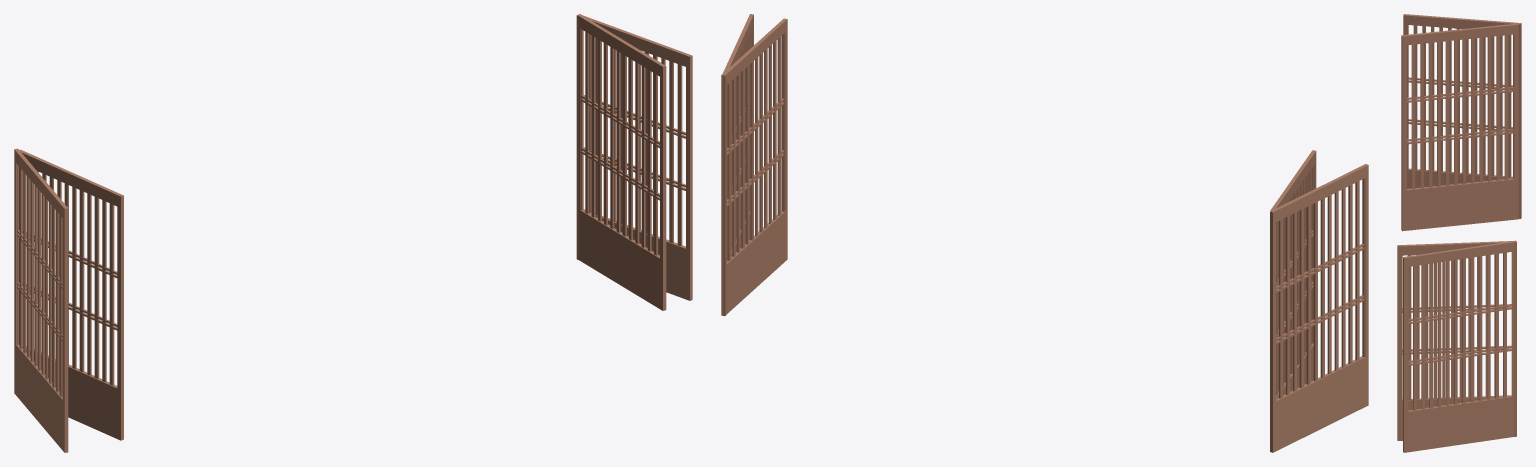
Rendered from Home_gateopen.fbx.
The picture shows the model from 3 angles, left to right: view 1: azimuth 30°, elevation 25°; view 2: azimuth 150°, elevation 25°; view 3: azimuth 270°, elevation 25°; orthographic projection. The views are drawn at different scales.
Visible parts, largest first — view 1: Cube.058, Cube.061, Cube.060, Cube.059; view 2: Cube.061, Cube.058, Cube.060, Cube.059; view 3: Cube.060, Cube.059, Cube.061, Cube.058.
Boxes of the visible parts, left/top/right/bottom form: Cube.058: left=577, top=14, right=666, bottom=310; Cube.061: left=14, top=148, right=68, bottom=452; Cube.060: left=18, top=149, right=123, bottom=440; Cube.059: left=576, top=15, right=692, bottom=300; Cube.061: left=1270, top=164, right=1368, bottom=452; Cube.058: left=721, top=18, right=787, bottom=315; Cube.060: left=1270, top=150, right=1316, bottom=398; Cube.059: left=722, top=14, right=753, bottom=315; Cube.060: left=1401, top=23, right=1518, bottom=231; Cube.059: left=1403, top=240, right=1516, bottom=452; Cube.061: left=1403, top=14, right=1521, bottom=218; Cube.058: left=1397, top=241, right=1516, bottom=440.
Bounding box in the file's own units: 984 × 365 × 212.
